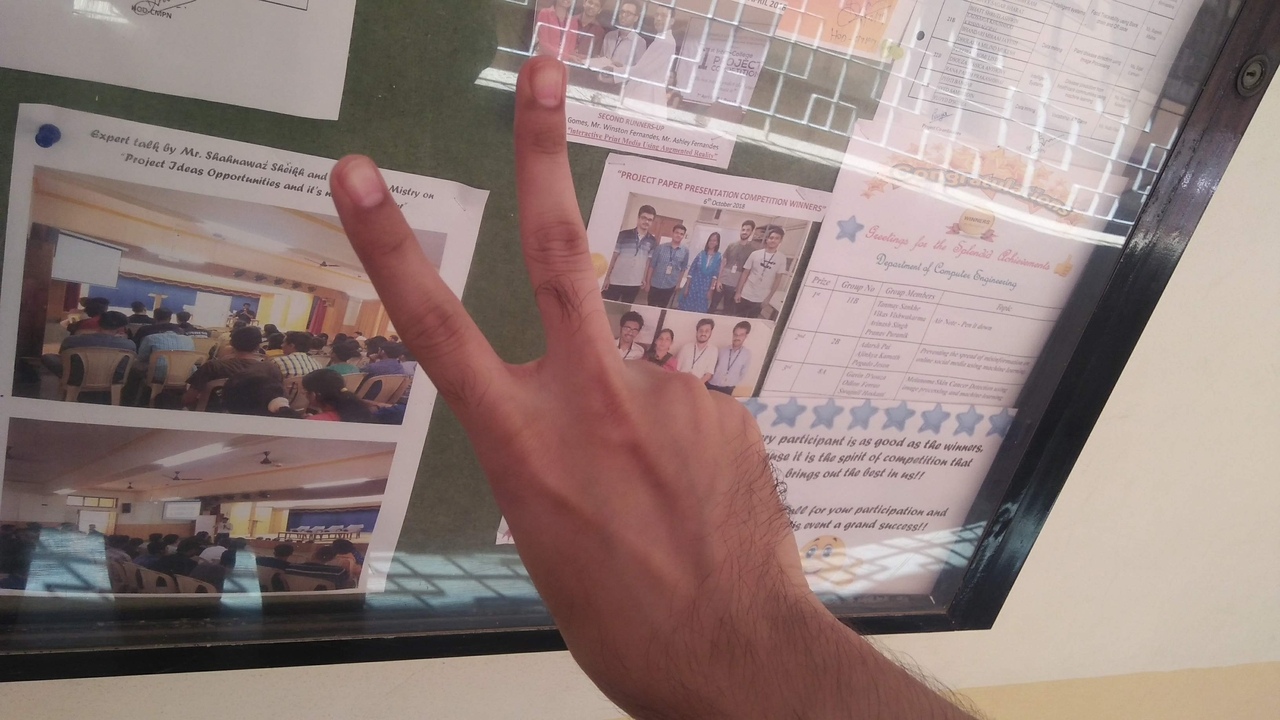fingertip: (322, 146, 388, 216), (512, 48, 566, 106)
